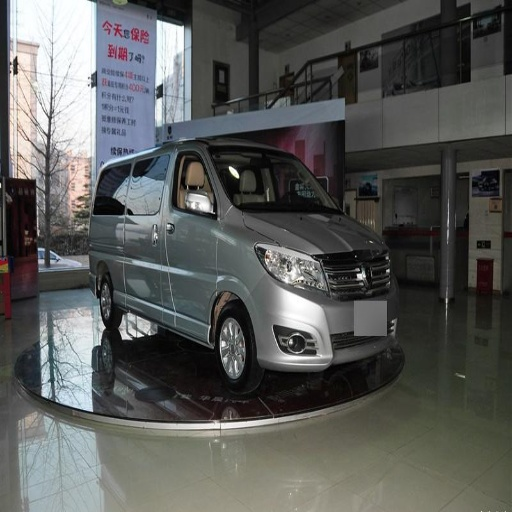front_bumper: (246, 253, 399, 388)
front_right_door: (163, 149, 219, 332)
front_right_light: (255, 242, 326, 290)
